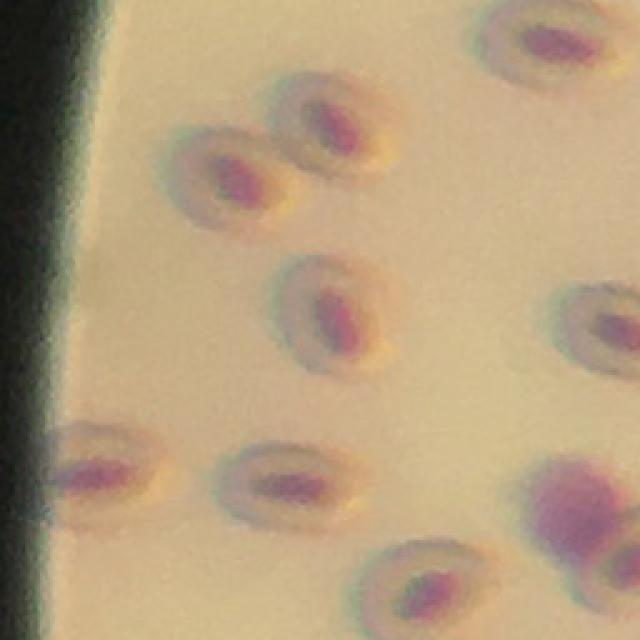RBC: (263, 249, 399, 380), (164, 127, 312, 245), (208, 438, 375, 535), (472, 0, 632, 100), (354, 536, 506, 640), (266, 70, 406, 182), (55, 419, 175, 530), (554, 281, 640, 383), (569, 506, 640, 621)
WBC: (518, 454, 629, 570)
